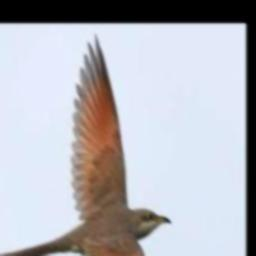Cuckoo: (0, 35, 172, 256)
